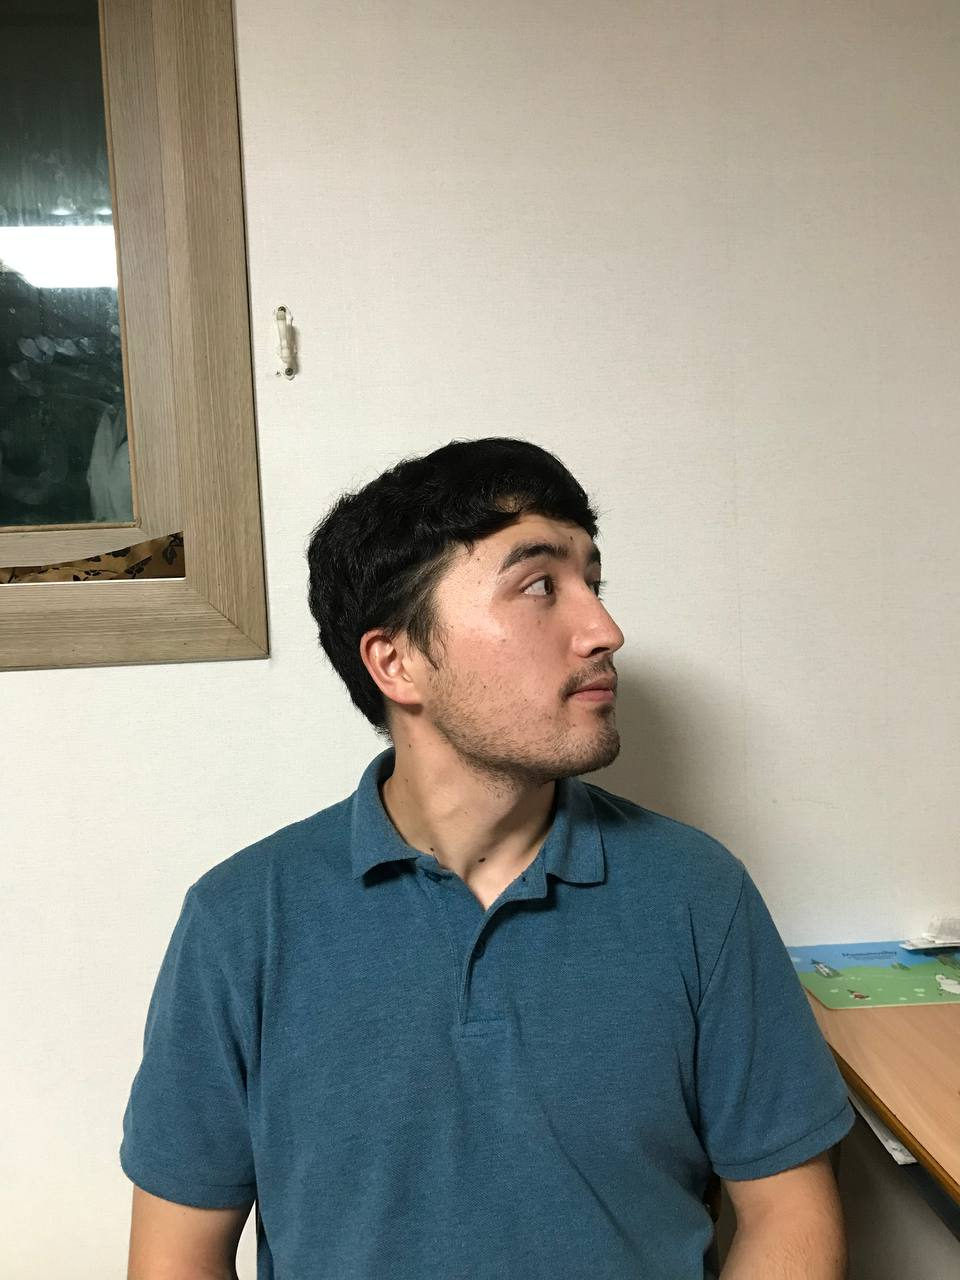NoMask: (310, 619, 627, 783)
